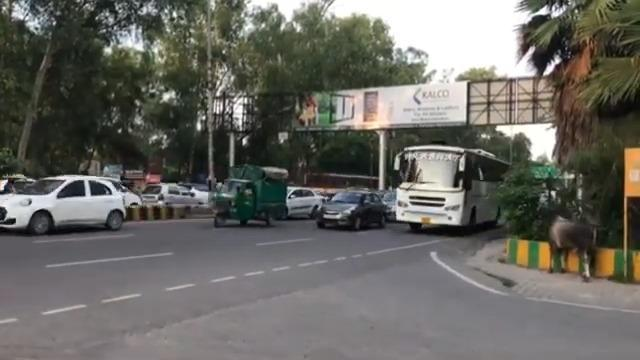Auto: (209, 162, 289, 228)
Bus: (392, 143, 514, 232)
